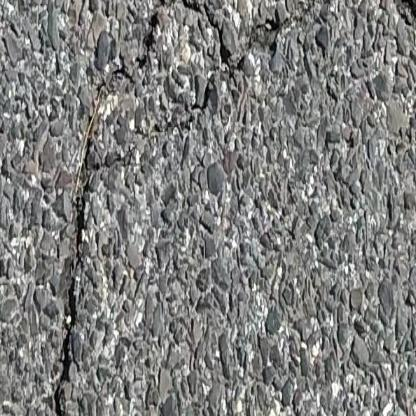Cracks: (50, 0, 170, 416), (173, 0, 416, 115)
